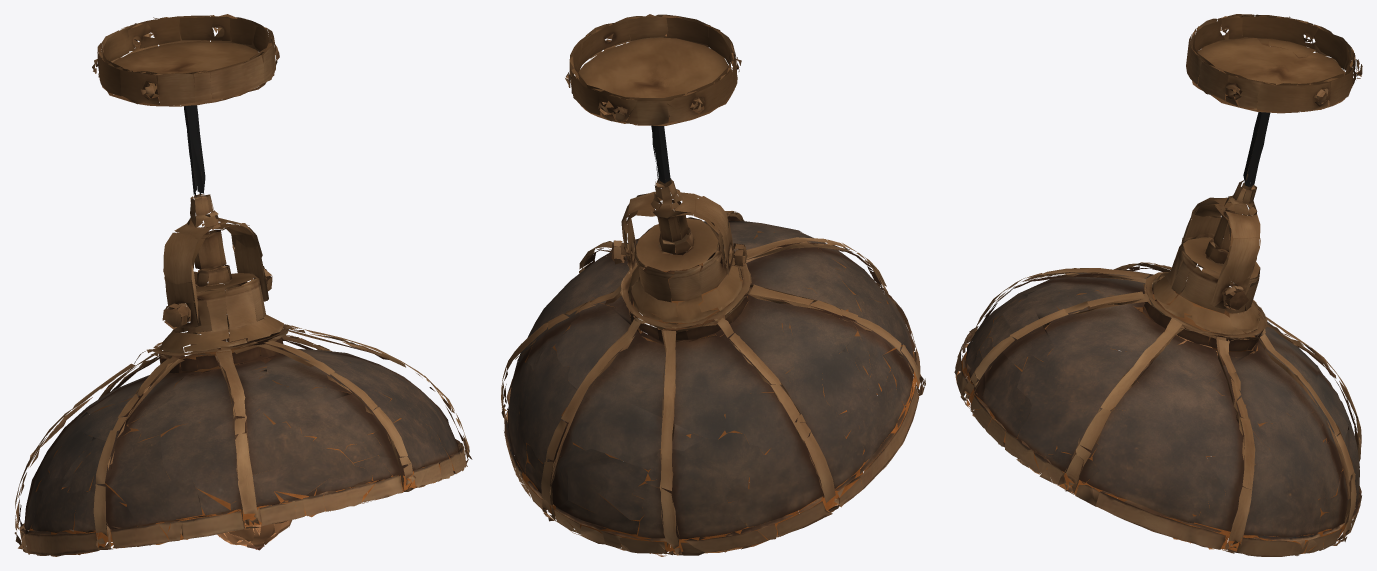
Rendered from pendant.glb.
3 renders of one model, left to right at view 1: azimuth 30°, elevation 25°; view 2: azimuth 150°, elevation 25°; view 3: azimuth 270°, elevation 25°, orthographic. The views are drawn at different scales.
Visible parts, largest first — view 1: Mesh_0; view 2: Mesh_0; view 3: Mesh_0.
Part boxes in pixels (bbox=[...]): Mesh_0: bbox=[14, 14, 472, 556]; Mesh_0: bbox=[501, 14, 925, 556]; Mesh_0: bbox=[954, 14, 1362, 556].
Size of the model in its own units: 0.7454 by 0.9176 by 0.7126.
1 material, 1 textured.
